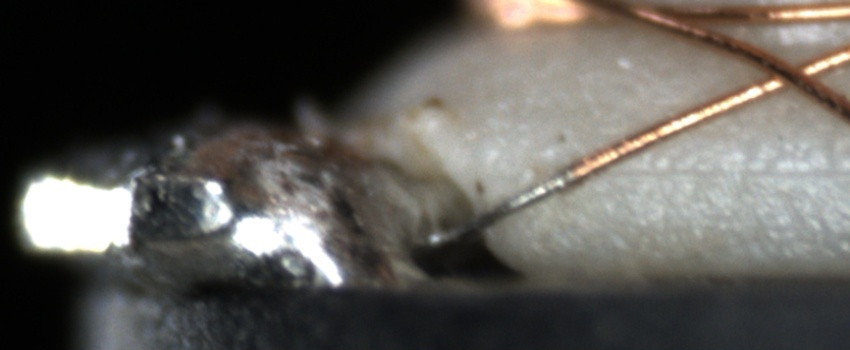CL: (747, 47, 834, 100)
DL: (613, 141, 850, 199)
TS: (427, 170, 573, 250)
TTCW: (425, 149, 618, 248)
